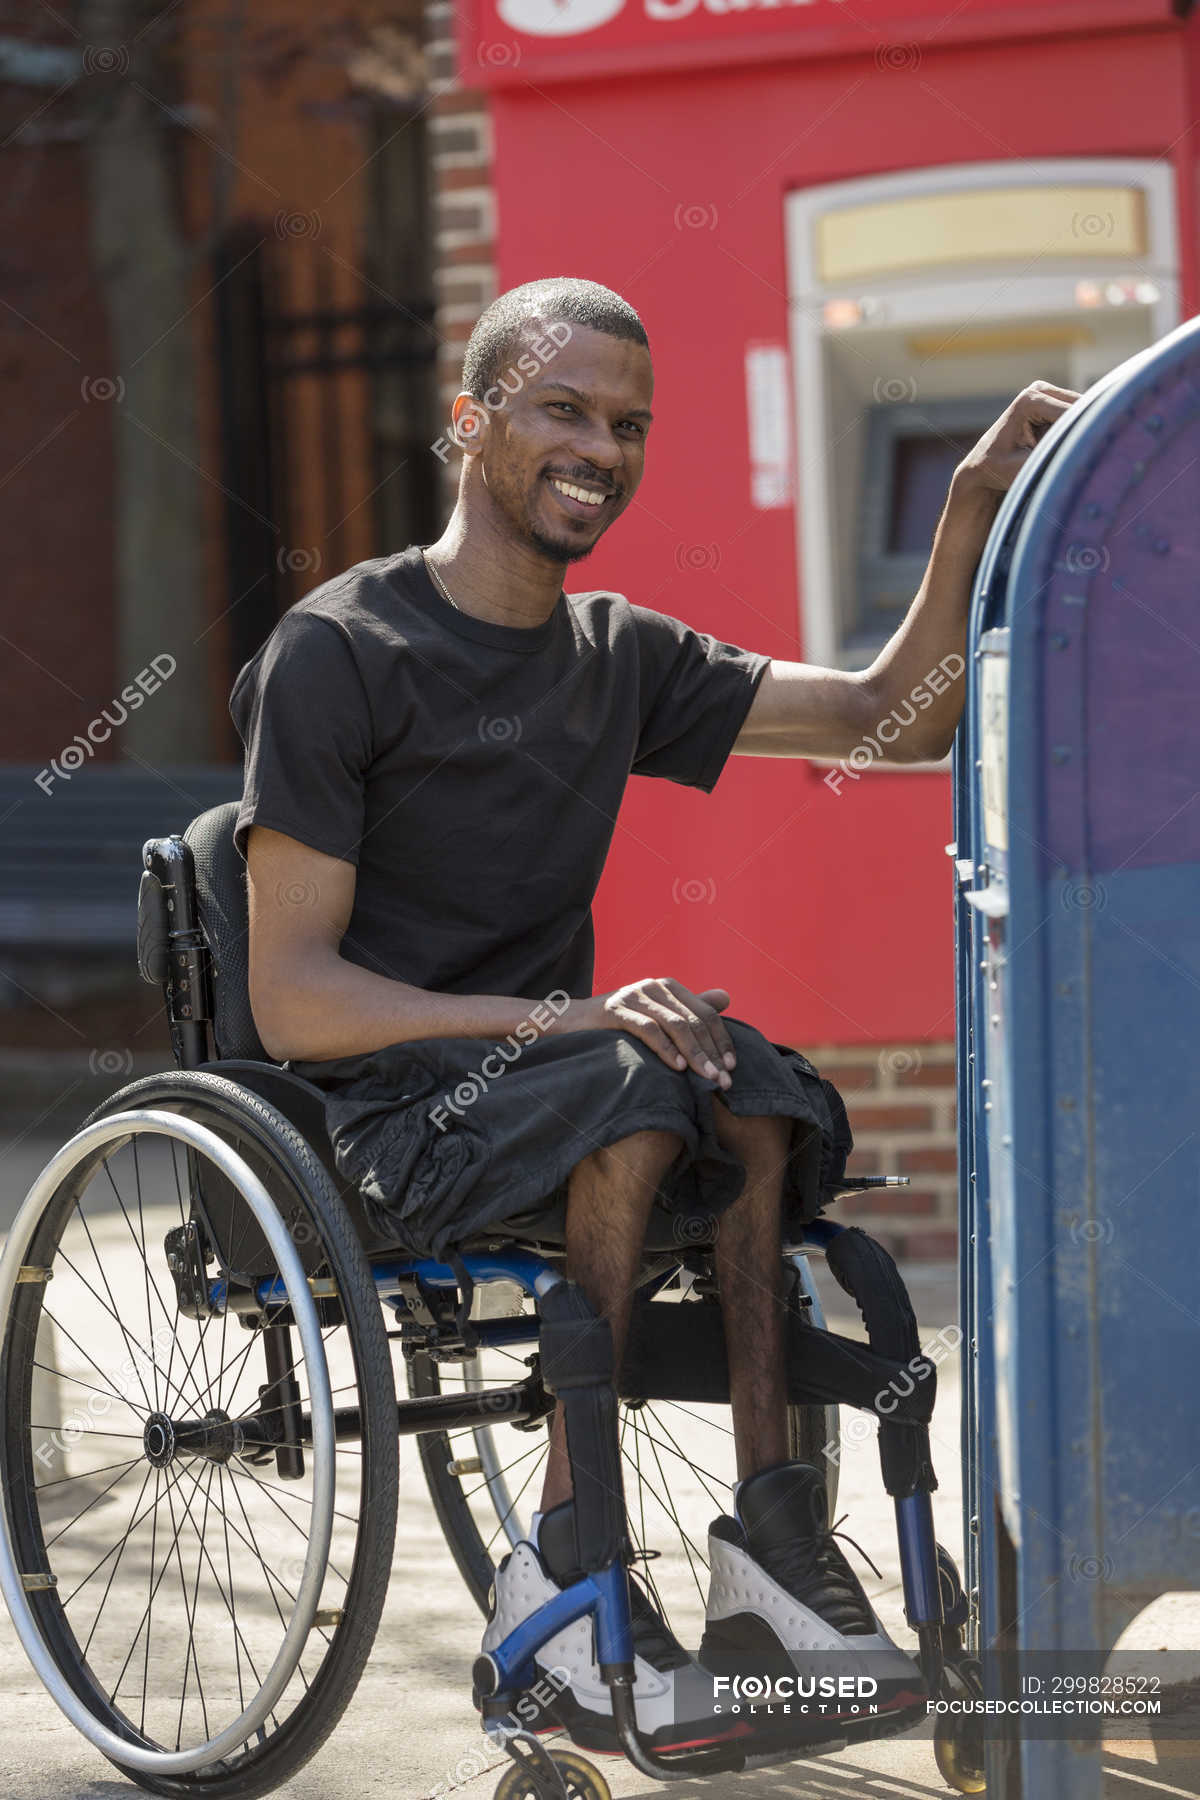wheelchair: (3, 271, 988, 1800)
